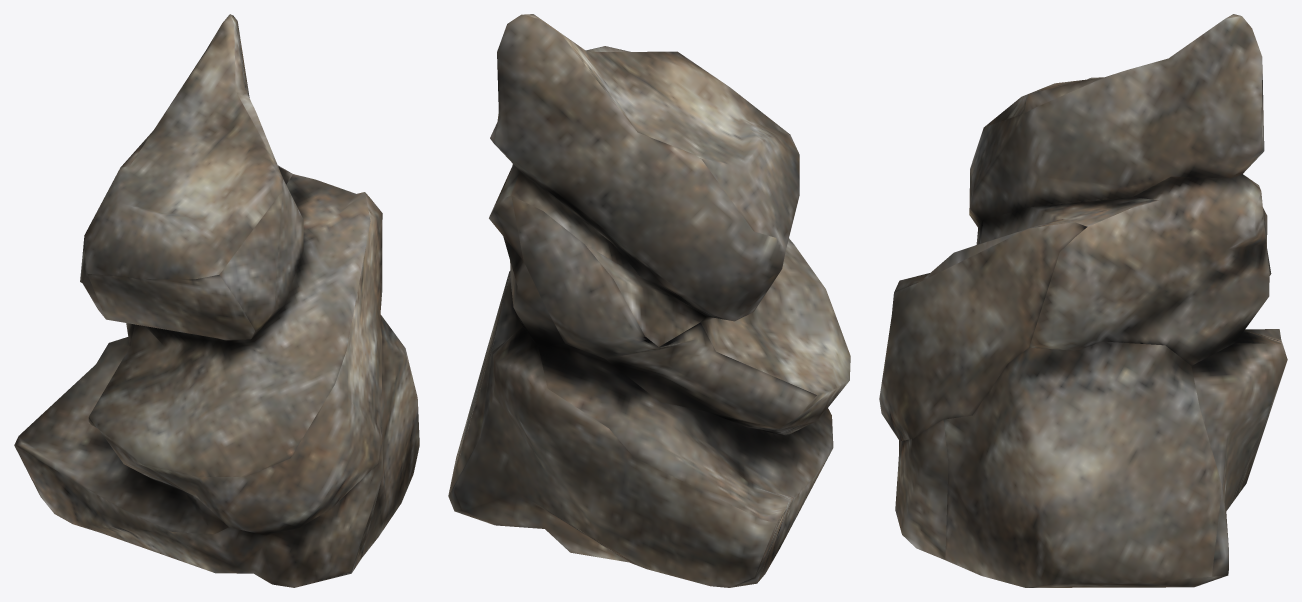
The model's file is Roca1.FBX.
3 renders of one model, left to right at view 1: azimuth 30°, elevation 25°; view 2: azimuth 150°, elevation 25°; view 3: azimuth 270°, elevation 25°, orthographic. The views are drawn at different scales.
Parts seen in each view (by area): view 1: realrock2 lod_2; view 2: realrock2 lod_2; view 3: realrock2 lod_2.
Boxes of the visible parts, box(x1,y1,x2,y2) form: realrock2 lod_2: box(14, 14, 419, 587); realrock2 lod_2: box(448, 14, 850, 587); realrock2 lod_2: box(879, 14, 1287, 587).
Bounding box in the file's own units: 212 × 286 × 193.
1 material, 1 textured.
